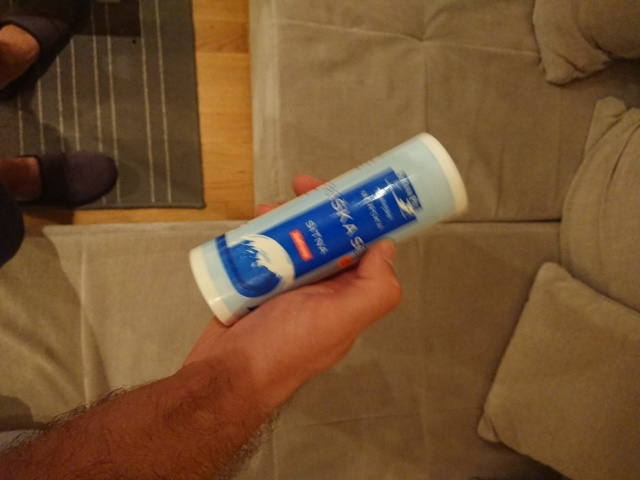Solana Pag Fine Sea Salt 250g: (184, 127, 475, 331)
